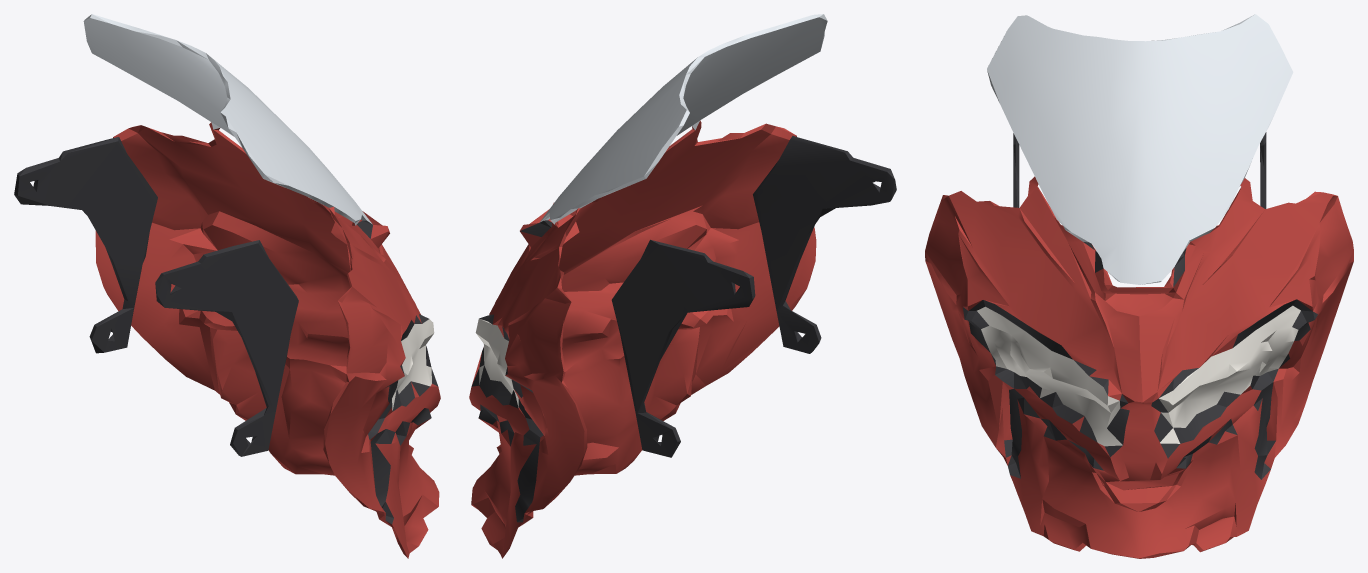
Rendered from naked_4_lod2.glb.
3 views of the same model, side by side, from view 1: azimuth 30°, elevation 25°; view 2: azimuth 150°, elevation 25°; view 3: azimuth 270°, elevation 25° (orthographic). The views are drawn at different scales.
Visible parts, largest first — view 1: naked_4_lod2; view 2: naked_4_lod2; view 3: naked_4_lod2.
Boxes of the visible parts, x1,y1,x2,y2 form: naked_4_lod2: (14, 14, 440, 558); naked_4_lod2: (469, 14, 896, 558); naked_4_lod2: (925, 14, 1353, 558).
Size of the model in its own units: 0.3424 by 0.4696 by 0.4161.
